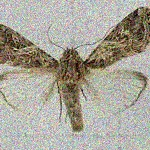Spodoptera litura: (0, 6, 149, 133)
